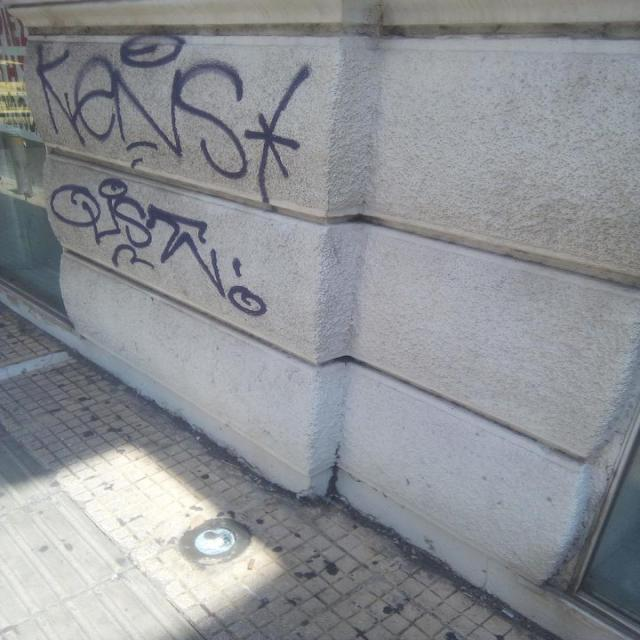nonspitting: (34, 28, 315, 210), (49, 180, 265, 318)
